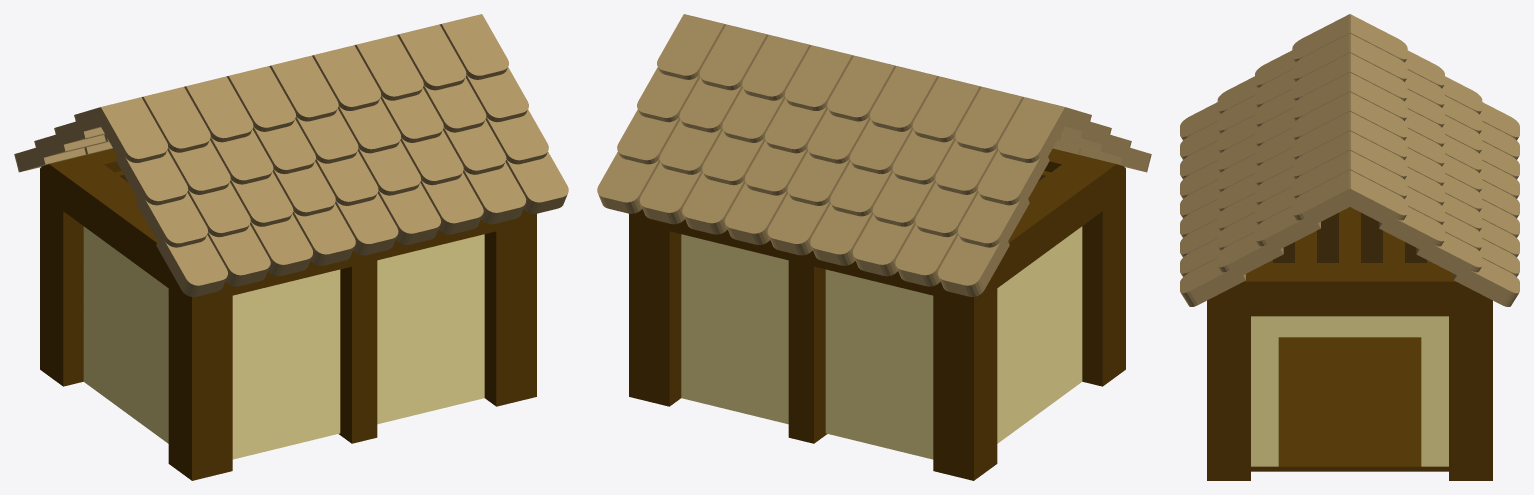
Rendered from forGame1.fbx.
3 views of the same model, side by side, from view 1: azimuth 30°, elevation 25°; view 2: azimuth 150°, elevation 25°; view 3: azimuth 270°, elevation 25° (orthographic). The views are drawn at different scales.
Visible parts, largest first — view 1: roof, walls, beam; view 2: roof, walls, beam; view 3: roof, walls, beam.
Boxes of the visible parts, <box> form: roof: <box>14,14,568,296</box>; walls: <box>83,170,484,459</box>; beam: <box>40,148,536,480</box>; roof: <box>597,14,1151,296</box>; walls: <box>681,170,1082,459</box>; beam: <box>629,148,1125,480</box>; roof: <box>1180,14,1519,306</box>; walls: <box>1251,207,1448,471</box>; beam: <box>1207,263,1492,480</box>.
Bounding box in the file's own units: 376 × 305 × 309.
